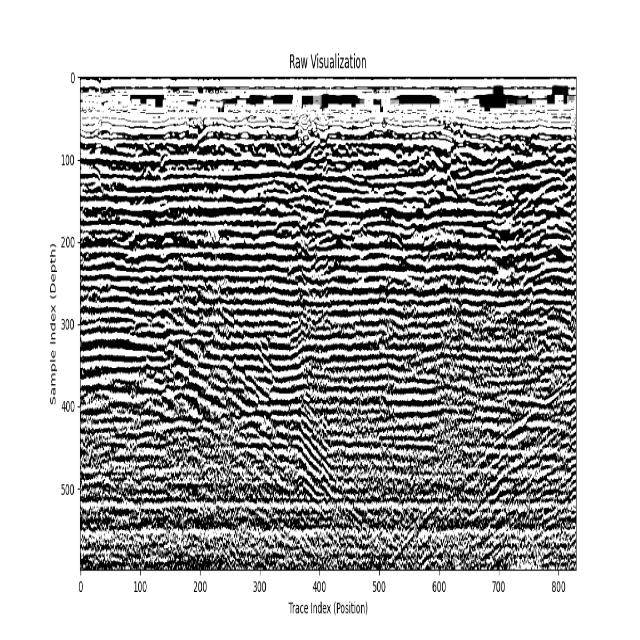anomaly: (384, 368, 575, 557)
